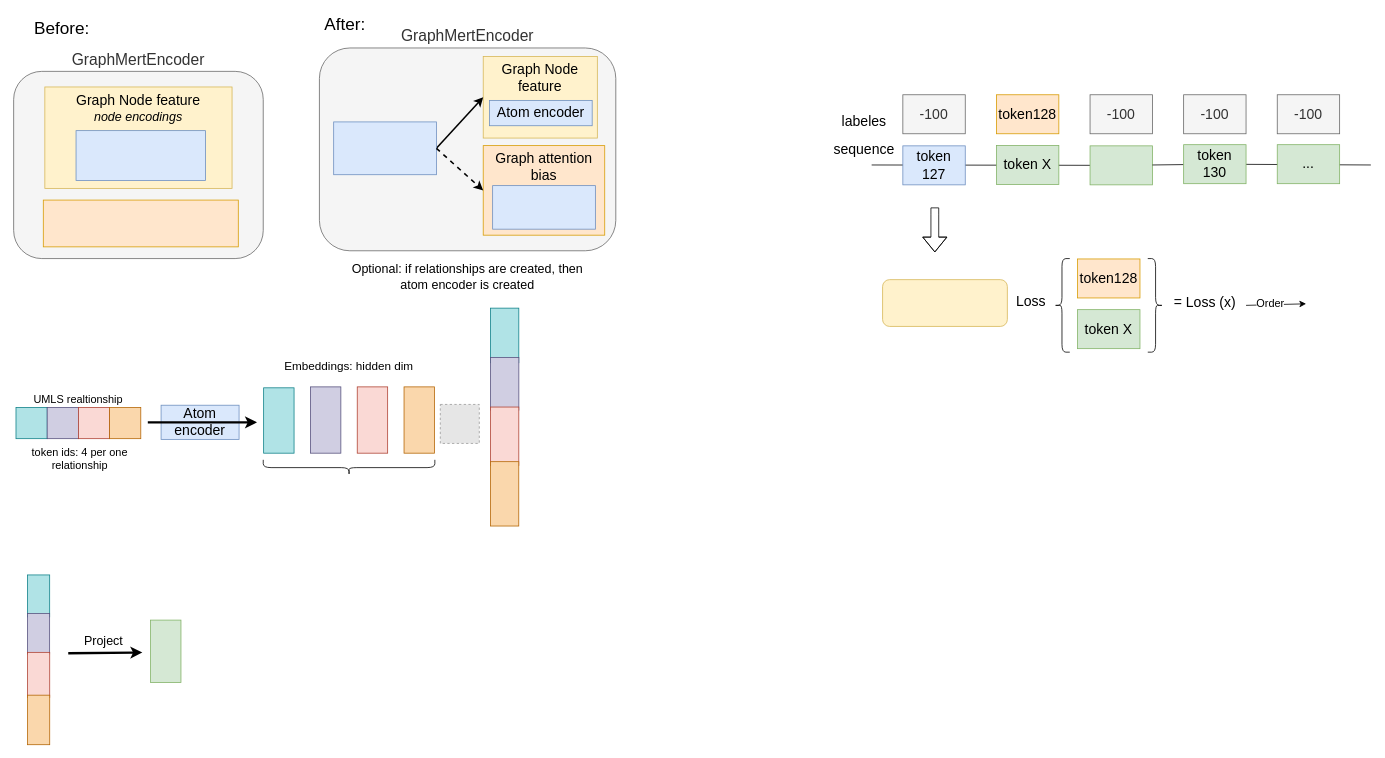
This 1385x758 diagram has some shape labels left out. Grey dashed boxes stand in for pictures. The centre of each missing label's shape, as x and y in pixels:
"Atom encoder ( optional )" goes at point (543, 207).
"Atom encoder (optional)" goes at point (384, 148).
"Atom encoder vocabulary encodings" goes at point (140, 155).
"Concat" goes at point (348, 467).
"Graph attention bias spatial position / edge encodings" goes at point (140, 223).
"token 129" goes at point (1120, 165).
"Trained model:" goes at point (944, 302).
